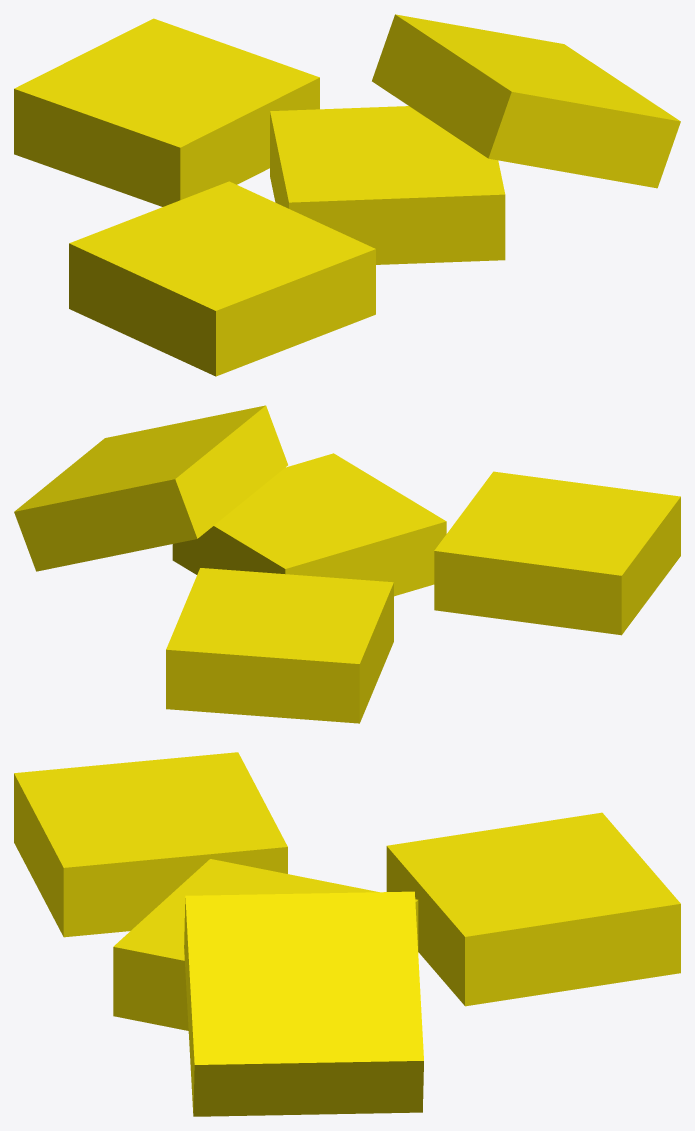
The model's file is coin4Model.obj.
3 views of the same model, one above another, from view 1: azimuth 30°, elevation 25°; view 2: azimuth 150°, elevation 25°; view 3: azimuth 270°, elevation 25° (orthographic). The views are drawn at different scales.
Parts seen in each view (by area): view 1: cuboid; view 2: cuboid; view 3: cuboid.
Part boxes in pixels (box(x1,y1,x2,y2)): cuboid: box(14, 14, 680, 376); cuboid: box(14, 405, 680, 723); cuboid: box(14, 752, 680, 1116).
Size of the model in its own units: 0.5894 by 0.1295 by 0.5445.
Materials: 1 (1 with a texture image).
